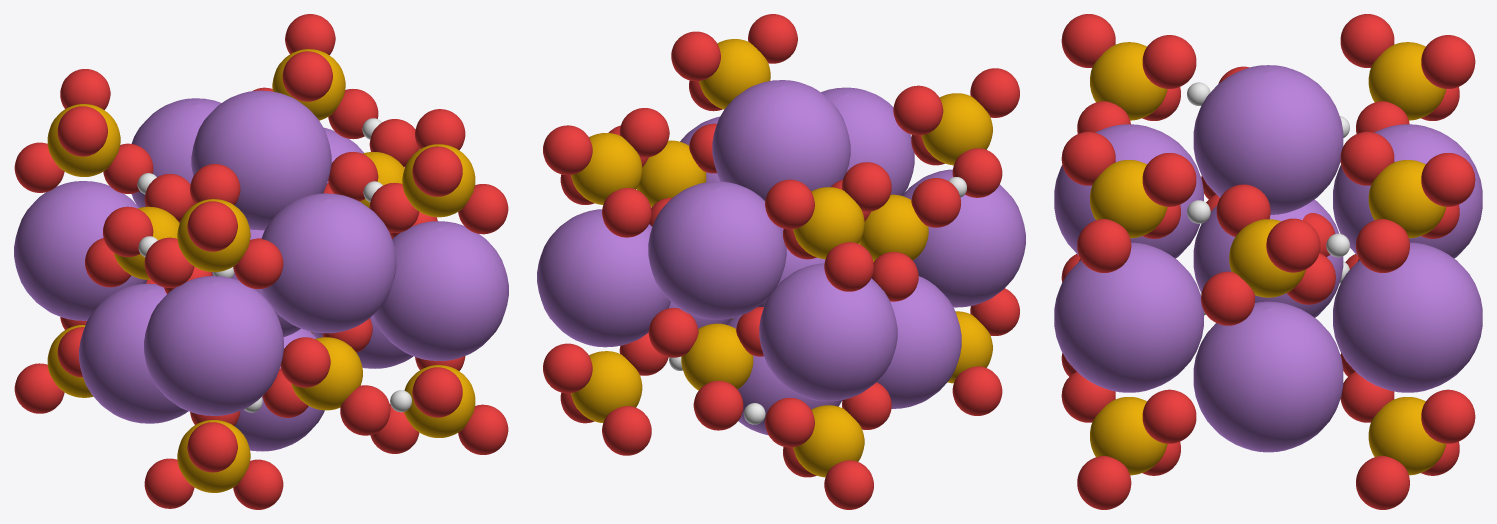
The model's file is KP(HO2)2_xyz.fbx.
The picture shows the model from 3 angles, left to right: view 1: azimuth 30°, elevation 25°; view 2: azimuth 150°, elevation 25°; view 3: azimuth 270°, elevation 25°; orthographic projection. The views are drawn at different scales.
Parts seen in each view (by area): view 1: Potassium|Ball (NURBS)_Potassium|Dupli|2.0.0.0.0.0.0.0.0, Potassium|Ball (NURBS)_Potassium|Dupli|6.0.0.0.0.0.0.0.0, Potassium|Ball (NURBS)_Potassium|Dupli|4.0.0.0.0.0.0.0.0, Potassium|Ball (NURBS)_Potassium|Dupli|9.0.0.0.0.0.0.0.0, Potassium|Ball (NURBS)_Potassium|Dupli|3.0.0.0.0.0.0.0.0, Potassium|Ball (NURBS)_Potassium|Dupli|0.0.0.0.0.0.0.0.0, Potassium|Ball (NURBS)_Potassium|Dupli|7.0.0.0.0.0.0.0.0, Potassium|Ball (NURBS)_Potassium|Dupli|8.0.0.0.0.0.0.0.0, Phosphorus|Ball (NURBS)_Phosphorus|Dupli|0.0.0.0.0.0.0.0.0, Phosphorus|Ball (NURBS)_Phosphorus|Dupli|7.0.0.0.0.0.0.0.0, Phosphorus|Ball (NURBS)_Phosphorus|Dupli|3.0.0.0.0.0.0.0.0, Phosphorus|Ball (NURBS)_Phosphorus|Dupli|2.0.0.0.0.0.0.0.0 (+40 smaller); view 2: Potassium|Ball (NURBS)_Potassium|Dupli|7.0.0.0.0.0.0.0.0, Potassium|Ball (NURBS)_Potassium|Dupli|3.0.0.0.0.0.0.0.0, Potassium|Ball (NURBS)_Potassium|Dupli|5.0.0.0.0.0.0.0.0, Potassium|Ball (NURBS)_Potassium|Dupli|9.0.0.0.0.0.0.0.0, Potassium|Ball (NURBS)_Potassium|Dupli|2.0.0.0.0.0.0.0.0, Potassium|Ball (NURBS)_Potassium|Dupli|0.0.0.0.0.0.0.0.0, Potassium|Ball (NURBS)_Potassium|Dupli|6.0.0.0.0.0.0.0.0, Phosphorus|Ball (NURBS)_Phosphorus|Dupli|1.0.0.0.0.0.0.0.0, Phosphorus|Ball (NURBS)_Phosphorus|Dupli|3.0.0.0.0.0.0.0.0, Phosphorus|Ball (NURBS)_Phosphorus|Dupli|4.0.0.0.0.0.0.0.0, Phosphorus|Ball (NURBS)_Phosphorus|Dupli|5.0.0.0.0.0.0.0.0, Phosphorus|Ball (NURBS)_Phosphorus|Dupli|8.0.0.0.0.0.0.0.0 (+32 smaller); view 3: Potassium|Ball (NURBS)_Potassium|Dupli|1.0.0.0.0.0.0.0.0, Potassium|Ball (NURBS)_Potassium|Dupli|5.0.0.0.0.0.0.0.0, Potassium|Ball (NURBS)_Potassium|Dupli|4.0.0.0.0.0.0.0.0, Potassium|Ball (NURBS)_Potassium|Dupli|9.0.0.0.0.0.0.0.0, Potassium|Ball (NURBS)_Potassium|Dupli|7.0.0.0.0.0.0.0.0, Potassium|Ball (NURBS)_Potassium|Dupli|6.0.0.0.0.0.0.0.0, Phosphorus|Ball (NURBS)_Phosphorus|Dupli|5.0.0.0.0.0.0.0.0, Phosphorus|Ball (NURBS)_Phosphorus|Dupli|3.0.0.0.0.0.0.0.0, Phosphorus|Ball (NURBS)_Phosphorus|Dupli|7.0.0.0.0.0.0.0.0, Phosphorus|Ball (NURBS)_Phosphorus|Dupli|9.0.0.0.0.0.0.0.0, Phosphorus|Ball (NURBS)_Phosphorus|Dupli|6.0.0.0.0.0.0.0.0, Phosphorus|Ball (NURBS)_Phosphorus|Dupli|8.0.0.0.0.0.0.0.0 (+31 smaller).
Part boxes in pixels (x1,y1,x2,y2): Potassium|Ball (NURBS)_Potassium|Dupli|2.0.0.0.0.0.0.0.0: [144, 276, 283, 415]; Potassium|Ball (NURBS)_Potassium|Dupli|6.0.0.0.0.0.0.0.0: [261, 193, 396, 333]; Potassium|Ball (NURBS)_Potassium|Dupli|4.0.0.0.0.0.0.0.0: [373, 221, 508, 360]; Potassium|Ball (NURBS)_Potassium|Dupli|9.0.0.0.0.0.0.0.0: [191, 90, 331, 230]; Potassium|Ball (NURBS)_Potassium|Dupli|3.0.0.0.0.0.0.0.0: [14, 181, 147, 320]; Potassium|Ball (NURBS)_Potassium|Dupli|0.0.0.0.0.0.0.0.0: [79, 283, 188, 423]; Potassium|Ball (NURBS)_Potassium|Dupli|7.0.0.0.0.0.0.0.0: [131, 98, 221, 222]; Potassium|Ball (NURBS)_Potassium|Dupli|8.0.0.0.0.0.0.0.0: [234, 328, 324, 451]; Phosphorus|Ball (NURBS)_Phosphorus|Dupli|0.0.0.0.0.0.0.0.0: [291, 337, 362, 410]; Phosphorus|Ball (NURBS)_Phosphorus|Dupli|7.0.0.0.0.0.0.0.0: [402, 144, 475, 217]; Phosphorus|Ball (NURBS)_Phosphorus|Dupli|3.0.0.0.0.0.0.0.0: [177, 199, 250, 272]; Phosphorus|Ball (NURBS)_Phosphorus|Dupli|2.0.0.0.0.0.0.0.0: [177, 420, 250, 492]; Potassium|Ball (NURBS)_Potassium|Dupli|7.0.0.0.0.0.0.0.0: [648, 181, 786, 319]; Potassium|Ball (NURBS)_Potassium|Dupli|3.0.0.0.0.0.0.0.0: [759, 263, 897, 401]; Potassium|Ball (NURBS)_Potassium|Dupli|5.0.0.0.0.0.0.0.0: [537, 209, 670, 347]; Potassium|Ball (NURBS)_Potassium|Dupli|9.0.0.0.0.0.0.0.0: [712, 80, 850, 200]; Potassium|Ball (NURBS)_Potassium|Dupli|2.0.0.0.0.0.0.0.0: [902, 169, 1025, 307]; Potassium|Ball (NURBS)_Potassium|Dupli|0.0.0.0.0.0.0.0.0: [877, 276, 961, 408]; Potassium|Ball (NURBS)_Potassium|Dupli|6.0.0.0.0.0.0.0.0: [821, 87, 914, 195]; Phosphorus|Ball (NURBS)_Phosphorus|Dupli|1.0.0.0.0.0.0.0.0: [681, 323, 753, 390]; Phosphorus|Ball (NURBS)_Phosphorus|Dupli|3.0.0.0.0.0.0.0.0: [921, 93, 992, 165]; Phosphorus|Ball (NURBS)_Phosphorus|Dupli|4.0.0.0.0.0.0.0.0: [793, 405, 864, 477]; Phosphorus|Ball (NURBS)_Phosphorus|Dupli|5.0.0.0.0.0.0.0.0: [793, 187, 864, 259]; Phosphorus|Ball (NURBS)_Phosphorus|Dupli|8.0.0.0.0.0.0.0.0: [571, 351, 642, 422]; Potassium|Ball (NURBS)_Potassium|Dupli|1.0.0.0.0.0.0.0.0: [1193, 301, 1343, 451]; Potassium|Ball (NURBS)_Potassium|Dupli|5.0.0.0.0.0.0.0.0: [1333, 242, 1482, 392]; Potassium|Ball (NURBS)_Potassium|Dupli|4.0.0.0.0.0.0.0.0: [1054, 242, 1203, 392]; Potassium|Ball (NURBS)_Potassium|Dupli|9.0.0.0.0.0.0.0.0: [1193, 65, 1343, 214]; Potassium|Ball (NURBS)_Potassium|Dupli|7.0.0.0.0.0.0.0.0: [1333, 124, 1482, 258]; Potassium|Ball (NURBS)_Potassium|Dupli|6.0.0.0.0.0.0.0.0: [1054, 124, 1203, 258]; Phosphorus|Ball (NURBS)_Phosphorus|Dupli|5.0.0.0.0.0.0.0.0: [1368, 42, 1446, 120]; Phosphorus|Ball (NURBS)_Phosphorus|Dupli|3.0.0.0.0.0.0.0.0: [1090, 42, 1167, 120]; Phosphorus|Ball (NURBS)_Phosphorus|Dupli|7.0.0.0.0.0.0.0.0: [1090, 160, 1167, 238]; Phosphorus|Ball (NURBS)_Phosphorus|Dupli|9.0.0.0.0.0.0.0.0: [1368, 160, 1446, 238]; Phosphorus|Ball (NURBS)_Phosphorus|Dupli|6.0.0.0.0.0.0.0.0: [1090, 397, 1167, 475]; Phosphorus|Ball (NURBS)_Phosphorus|Dupli|8.0.0.0.0.0.0.0.0: [1368, 397, 1446, 475].
Size of the model in its own units: 1157 by 1112 by 1157.
